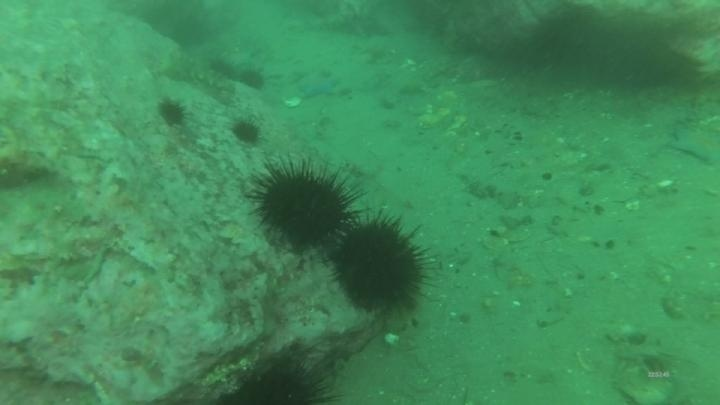echinus: (329, 210, 433, 317), (251, 157, 363, 254), (226, 352, 337, 404), (155, 96, 189, 129), (229, 116, 264, 147), (236, 65, 268, 93)
holothurian: (1, 274, 94, 349), (157, 55, 234, 98)
starfish: (667, 120, 720, 167), (294, 70, 341, 100)
